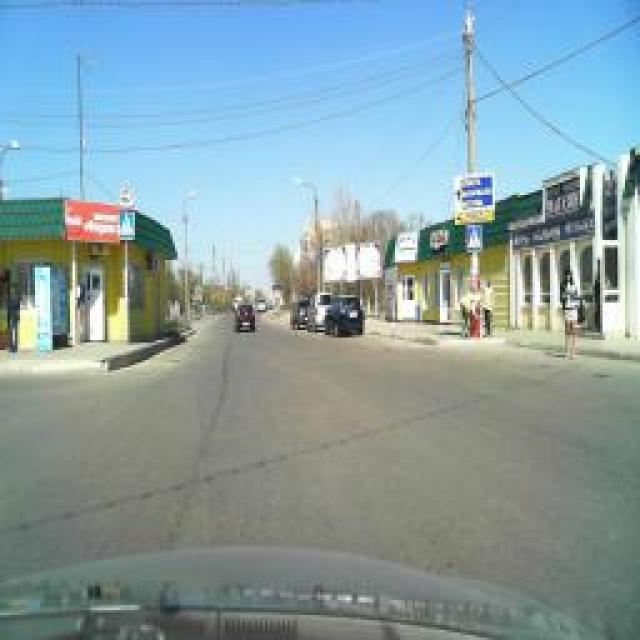sign: (116, 181, 134, 211)
